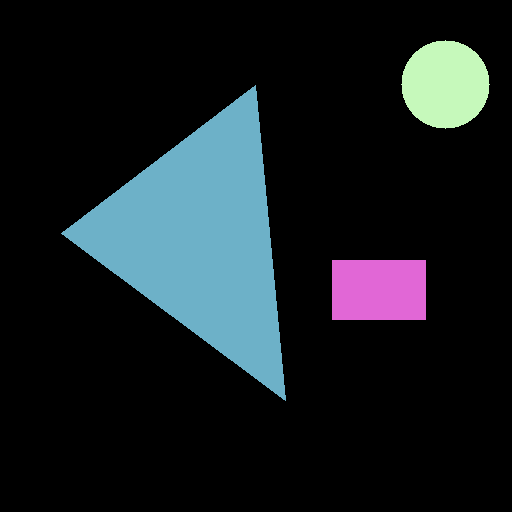circle: (401, 40, 489, 128)
rectangle: (332, 260, 425, 319)
triangle: (61, 85, 285, 400)
